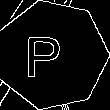P_N: (33, 30, 71, 80)
